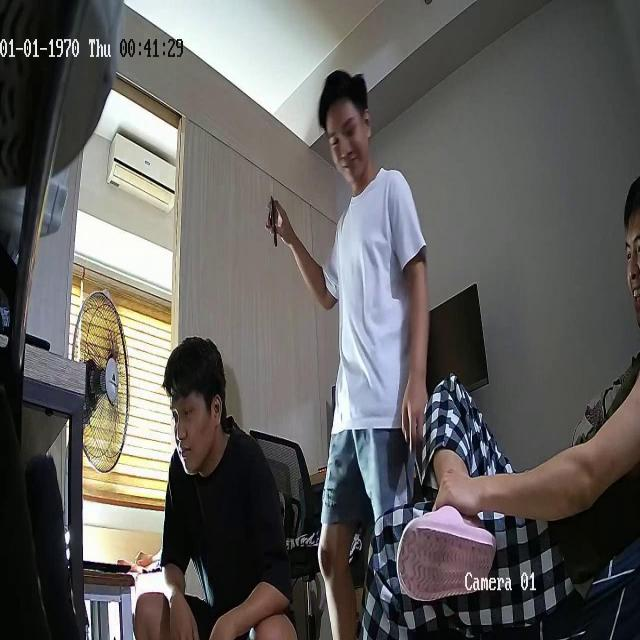scissor: (268, 176, 277, 246)
